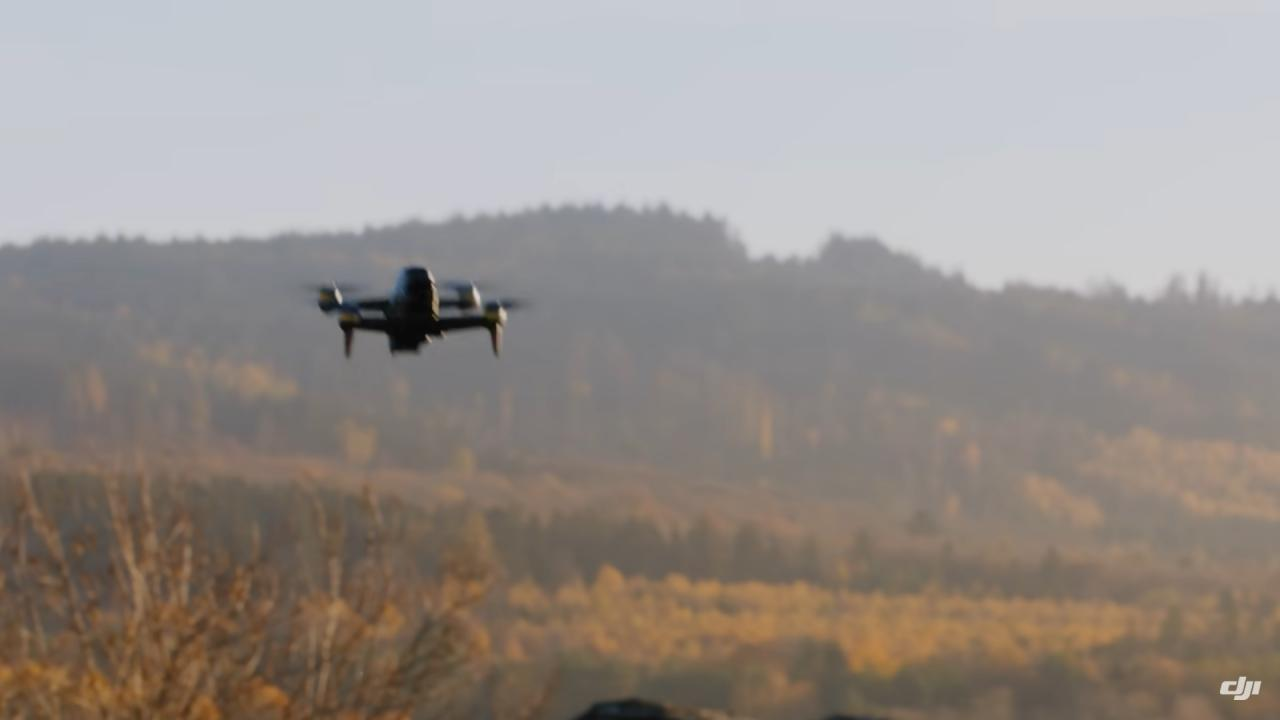Drone: (301, 245, 534, 380)
